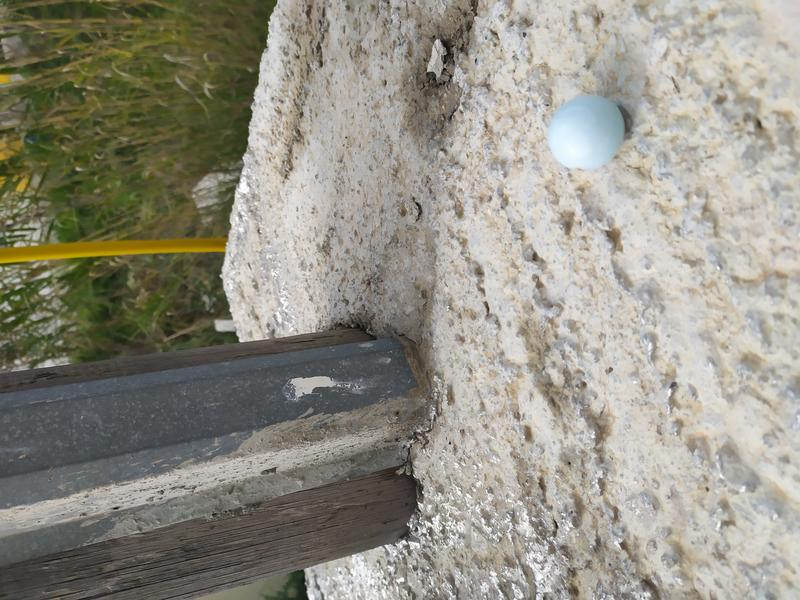Warning: (545, 90, 627, 173)
